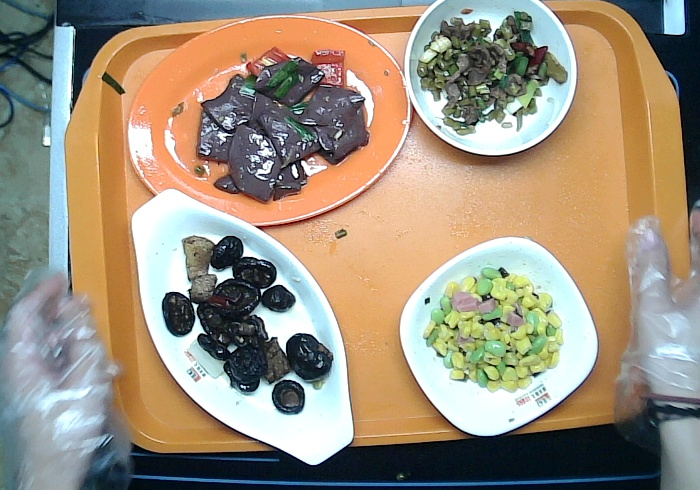NLDX-Bai_Se_Xiao_Fang_Die: (400, 237, 598, 437)
NLDX-Fan_Wan: (404, 1, 577, 157)
NLDX-Ju_Se_Pan: (128, 14, 414, 227)
NLDX-Yu_Pan: (131, 187, 354, 466)
